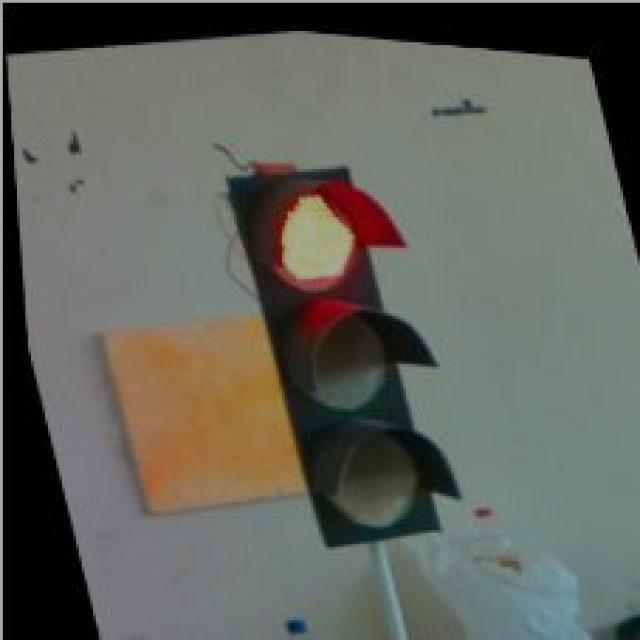Red: (231, 146, 468, 548)
